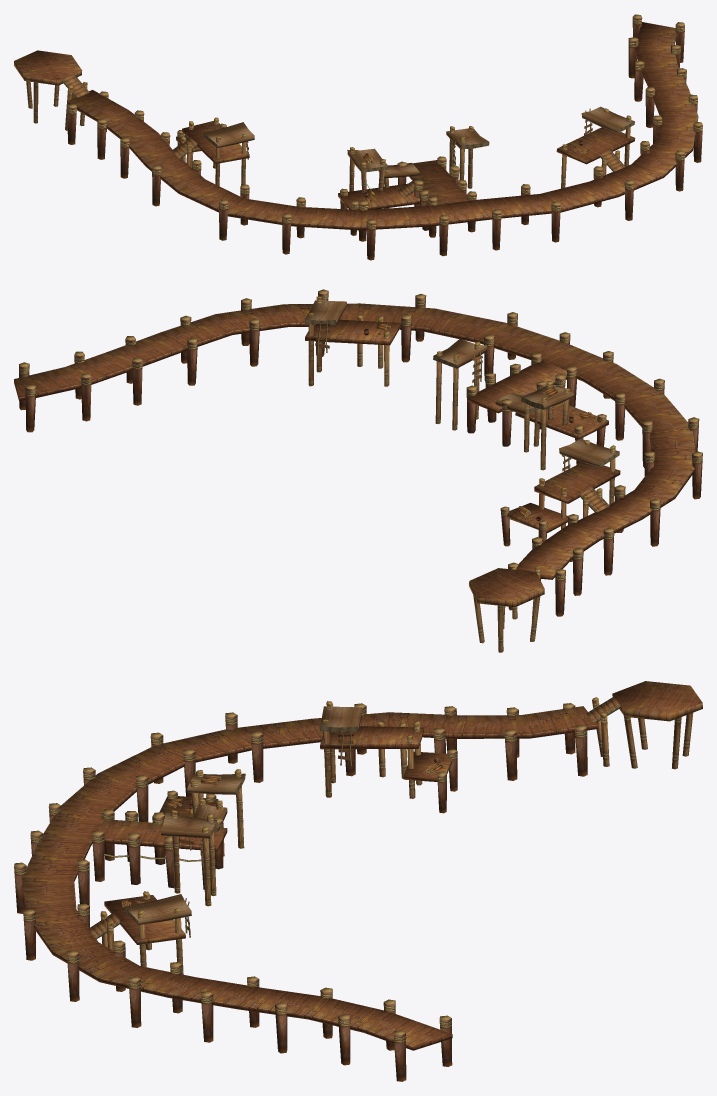
Rendered from environment_common_muchangban_001_a.FBX.
The picture shows the model from 3 angles, top to bottom: view 1: azimuth 30°, elevation 25°; view 2: azimuth 150°, elevation 25°; view 3: azimuth 270°, elevation 25°; orthographic projection. The views are drawn at different scales.
Visible parts, largest first — view 1: environment_common_muchangban_001_a0, environment_common_muchangban_001_b0, environment_common_muchangban_001_d1, environment_common_muchangban_001_d0, environment_common_muchangban_001_f2, environment_common_muchangban_001_e2, environment_common_muchangban_001_e1, environment_common_muchangban_001_f3, environment_common_muchangban_001_d2; view 2: environment_common_muchangban_001_a0, environment_common_muchangban_001_b0, environment_common_muchangban_001_d1, environment_common_muchangban_001_d0, environment_common_muchangban_001_f3, environment_common_muchangban_001_f2, environment_common_muchangban_001_e1, environment_common_muchangban_001_e2; view 3: environment_common_muchangban_001_a0, environment_common_muchangban_001_b0, environment_common_muchangban_001_d1, environment_common_muchangban_001_f2, environment_common_muchangban_001_f3, environment_common_muchangban_001_d0, environment_common_muchangban_001_e1, environment_common_muchangban_001_e2.
Boxes of the visible parts, box(x1,y1,x2,y2) form: environment_common_muchangban_001_a0: box(14, 22, 698, 230); environment_common_muchangban_001_b0: box(26, 14, 702, 260); environment_common_muchangban_001_d1: box(340, 126, 488, 235); environment_common_muchangban_001_d0: box(338, 160, 470, 209); environment_common_muchangban_001_f2: box(177, 117, 254, 186); environment_common_muchangban_001_e2: box(556, 127, 635, 164); environment_common_muchangban_001_e1: box(561, 106, 634, 188); environment_common_muchangban_001_f3: box(176, 121, 249, 163); environment_common_muchangban_001_d2: box(361, 141, 489, 196); environment_common_muchangban_001_a0: box(14, 303, 695, 607); environment_common_muchangban_001_b0: box(19, 289, 702, 652); environment_common_muchangban_001_d1: box(433, 339, 606, 470); environment_common_muchangban_001_d0: box(467, 360, 608, 439); environment_common_muchangban_001_f3: box(507, 462, 620, 532); environment_common_muchangban_001_f2: box(500, 438, 619, 546); environment_common_muchangban_001_e1: box(305, 296, 389, 386); environment_common_muchangban_001_e2: box(305, 319, 400, 345); environment_common_muchangban_001_a0: box(22, 681, 702, 1050); environment_common_muchangban_001_b0: box(14, 697, 693, 1081); environment_common_muchangban_001_d1: box(125, 769, 245, 906); environment_common_muchangban_001_f2: box(320, 701, 457, 813); environment_common_muchangban_001_f3: box(320, 726, 452, 781); environment_common_muchangban_001_d0: box(98, 796, 227, 851); environment_common_muchangban_001_e1: box(100, 891, 191, 974); environment_common_muchangban_001_e2: box(104, 895, 185, 944).
Bounding box in the file's own units: 339 × 41.31 × 290.
6 materials, 6 textured.
